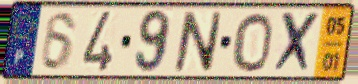4: (79, 9, 115, 75)
6: (38, 10, 79, 72)
9: (134, 7, 174, 76)
N: (171, 10, 225, 75)
O: (231, 11, 275, 75)
X: (270, 10, 323, 77)
